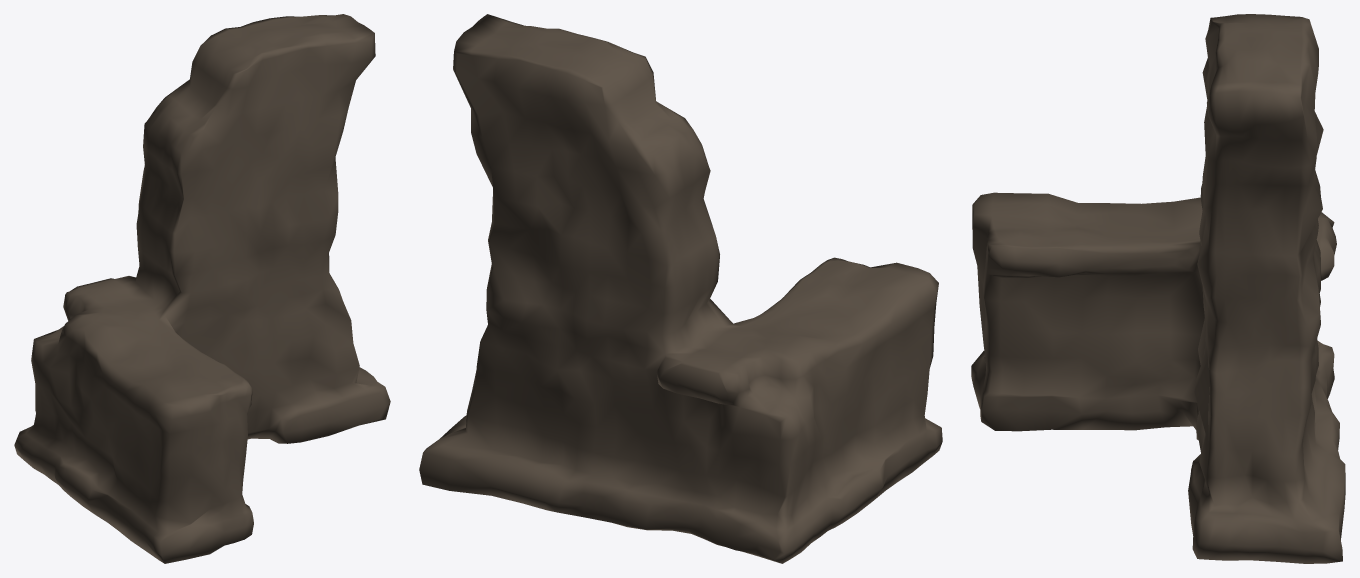
The model's file is ruins1.fbx.
3 views of the same model, side by side, from view 1: azimuth 30°, elevation 25°; view 2: azimuth 150°, elevation 25°; view 3: azimuth 270°, elevation 25° (orthographic). The views are drawn at different scales.
Visible parts, largest first — view 1: ruins1_LOD0; view 2: ruins1_LOD0; view 3: ruins1_LOD0.
Boxes of the visible parts, bbox=[...] form: ruins1_LOD0: bbox=[14, 14, 390, 563]; ruins1_LOD0: bbox=[419, 14, 942, 563]; ruins1_LOD0: bbox=[971, 14, 1345, 563].
Size of what is drawn, in the model's own units: 310 by 350 by 249.
